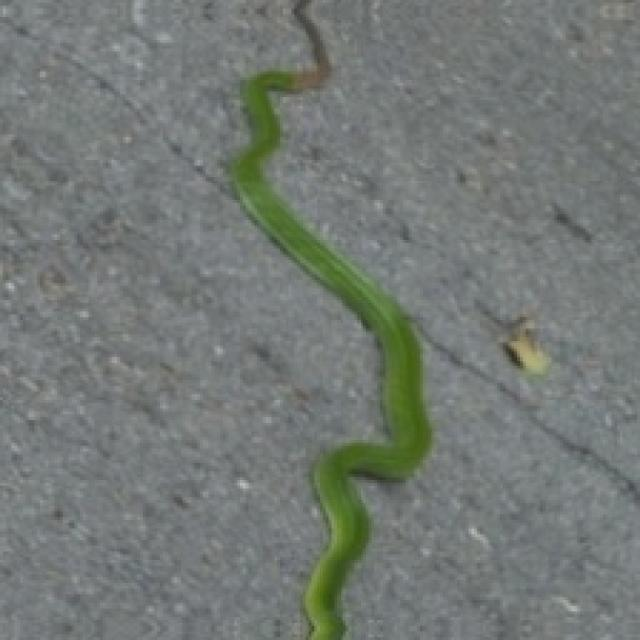red-tailed green ratsnake: (231, 0, 431, 637), (231, 71, 429, 637)
